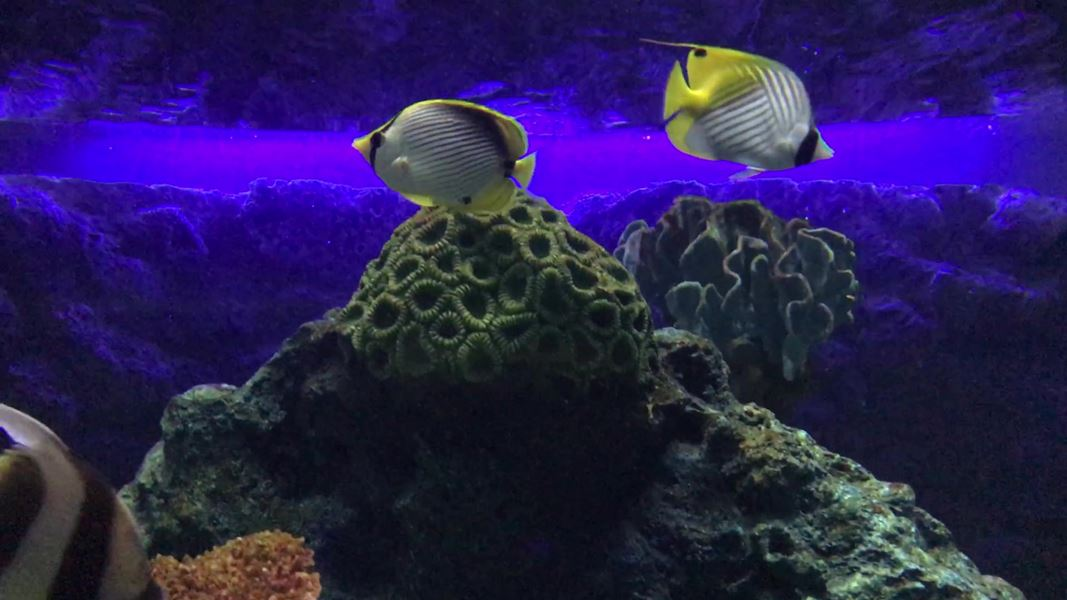Black-backed butterflyfish: (340, 92, 554, 229)
